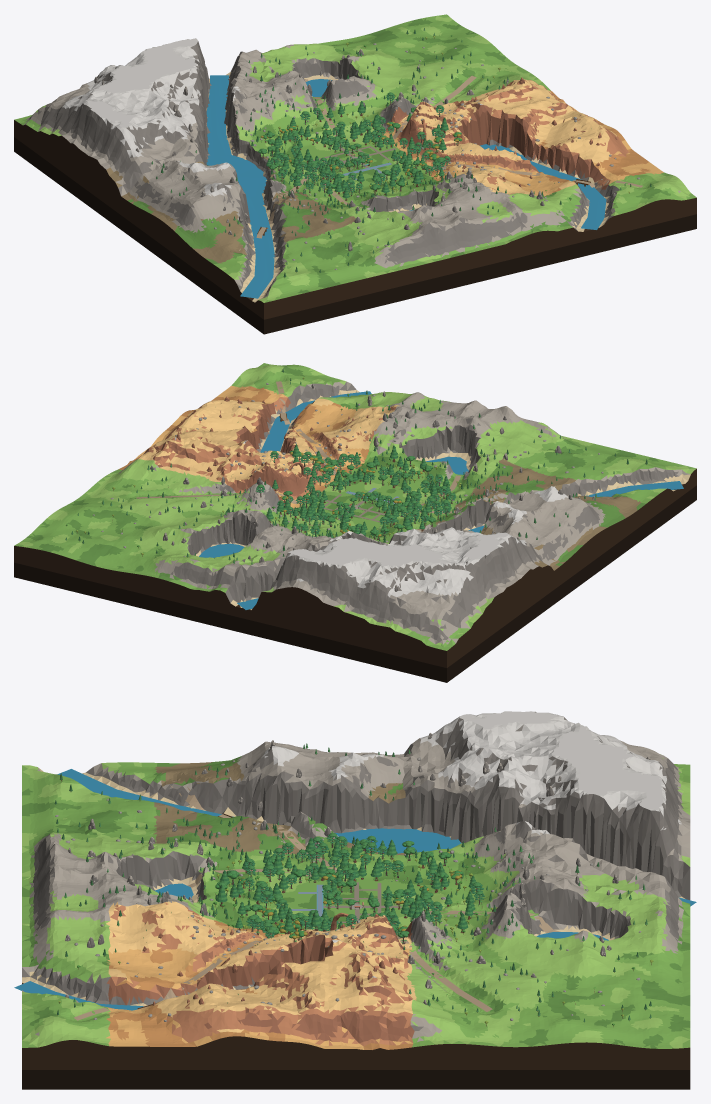
The model's file is escenario_2km.glb.
3 views of the same model, one above another, from view 1: azimuth 30°, elevation 25°; view 2: azimuth 150°, elevation 25°; view 3: azimuth 270°, elevation 25° (orthographic). The views are drawn at different scales.
Visible parts, largest first — view 1: Terrain-col, Water, Roads; view 2: Terrain-col, Water, Roads; view 3: Terrain-col, Water, Roads.
Boxes of the visible parts, x1,y1,x2,y2 form: Terrain-col: (14,14,696,334); Water: (206,75,606,298); Roads: (239,75,642,250); Terrain-col: (14,363,696,682); Water: (199,391,683,609); Roads: (136,381,608,531); Terrain-col: (22,711,690,1089); Water: (14,769,696,1010); Roads: (74,780,560,1020).
Bounding box in the file's own units: 2026 × 355 × 2044.
